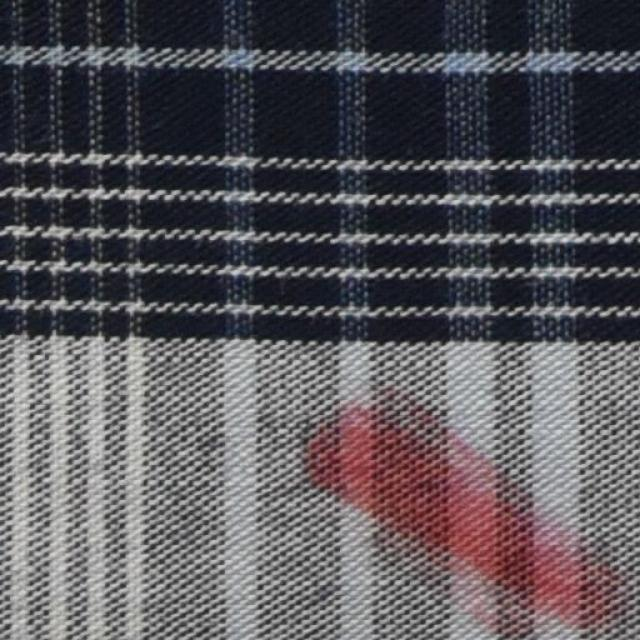Stain: (296, 390, 621, 623)
